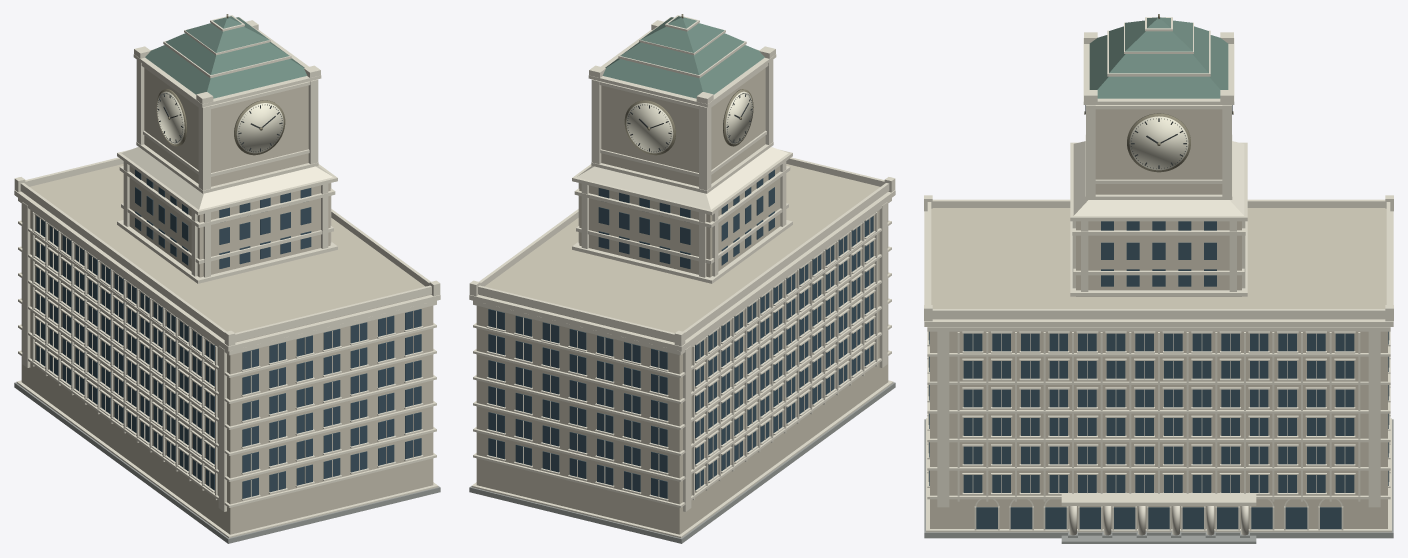
File: customs-house.glb
3 renders of one model, left to right at view 1: azimuth 30°, elevation 25°; view 2: azimuth 150°, elevation 25°; view 3: azimuth 270°, elevation 25°, orthographic. The views are drawn at different scales.
Parts seen in each view (by area): view 1: Shanghai Customs House · 江海关大楼; view 2: Shanghai Customs House · 江海关大楼; view 3: Shanghai Customs House · 江海关大楼.
Boxes of the visible parts, box(x1,y1,x2,y2) form: Shanghai Customs House · 江海关大楼: box(14, 14, 440, 543); Shanghai Customs House · 江海关大楼: box(469, 14, 895, 543); Shanghai Customs House · 江海关大楼: box(924, 14, 1393, 543).
Bounding box in the file's own units: 50.3 × 90 × 82.1.
